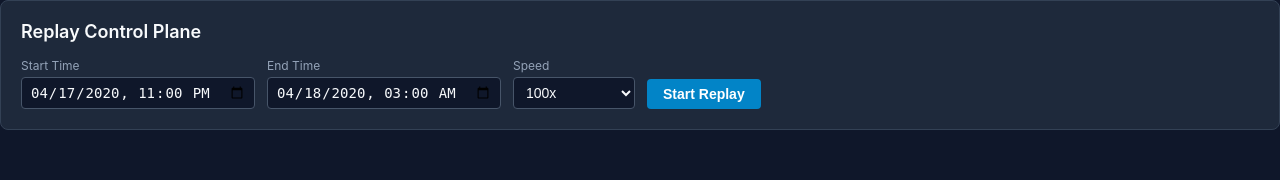
Scenario: ReplayControls component › displays error message when range is invalid
Replace the text in the field labelled "Start Time" with "2020-04-18T05:00" at (138, 93), box top-left (21, 77), bottom-right (255, 109)
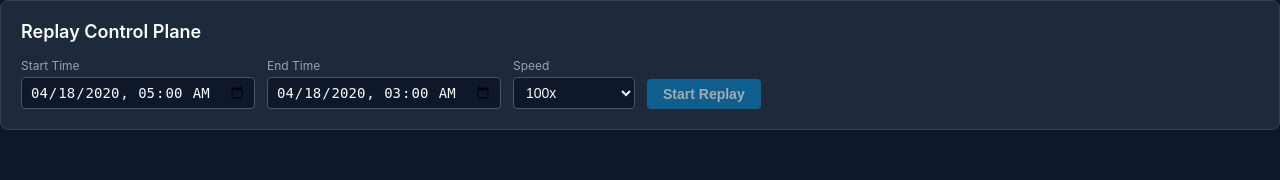
Replace the text in the field labelled "End Time" with "2020-04-18T01:00" at (384, 93), box top-left (267, 77), bottom-right (501, 109)
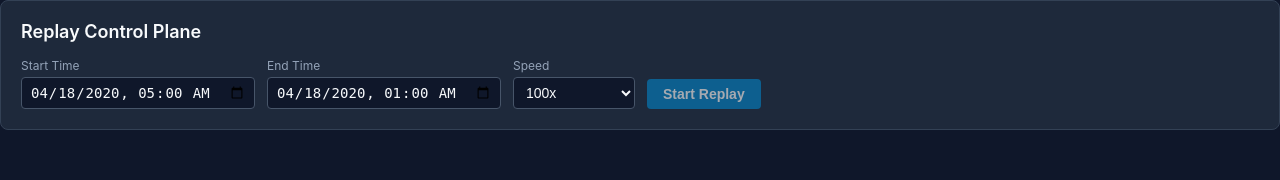
Submit the form, box top-left (21, 58), bottom-right (761, 109)
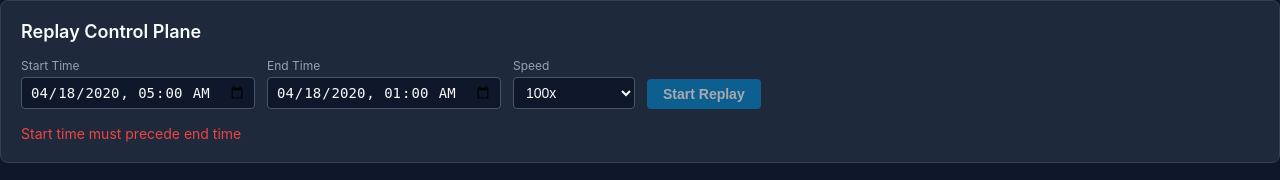
Result: the text with test id "replay-error" shows "Start time must precede" at top-left (21, 125), bottom-right (241, 142)
